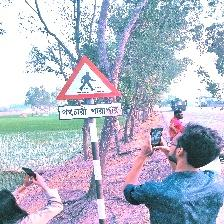Pedestrian-crossing: (56, 56, 123, 121)
